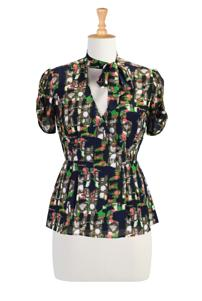C_short blouse: (34, 48, 166, 240)
